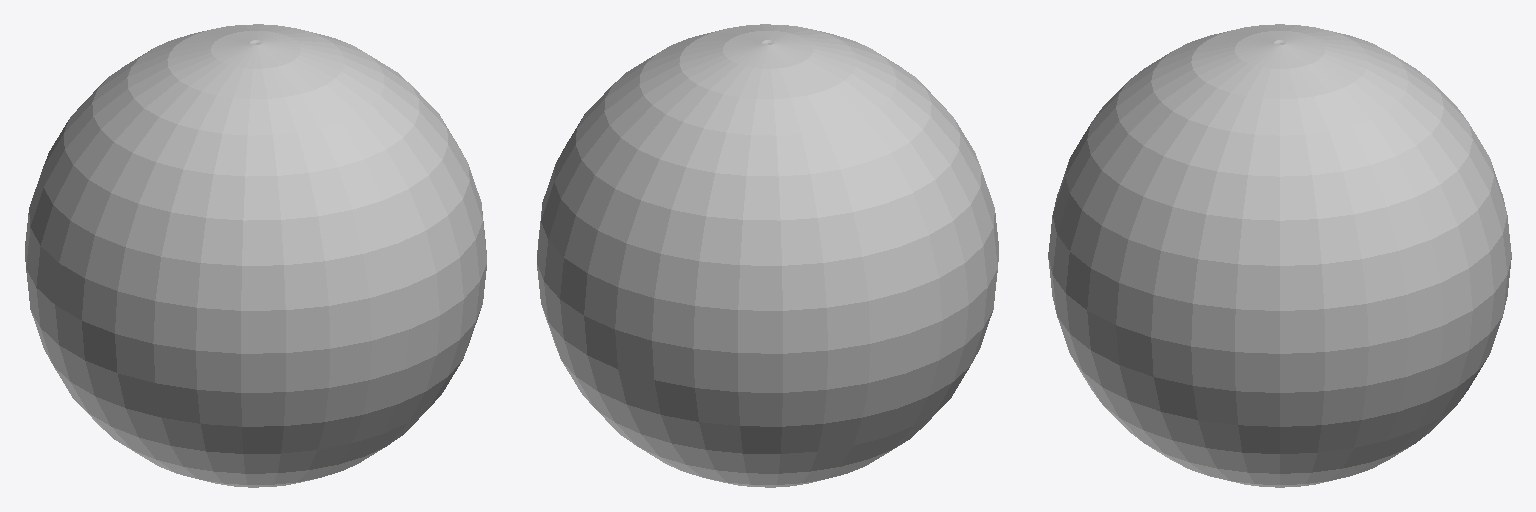
Rendered from jupiterSmoothShaded.obj.
The picture shows the model from 3 angles: view 1: azimuth 30°, elevation 25°; view 2: azimuth 150°, elevation 25°; view 3: azimuth 270°, elevation 25°; orthographic projection.
Visible parts, largest first — view 1: Sphere; view 2: Sphere; view 3: Sphere.
Boxes of the visible parts, <box> form: Sphere: <box>25,24,486,487</box>; Sphere: <box>537,24,998,487</box>; Sphere: <box>1048,24,1511,487</box>.
Size of the model in its own units: 2 by 2.03 by 2.